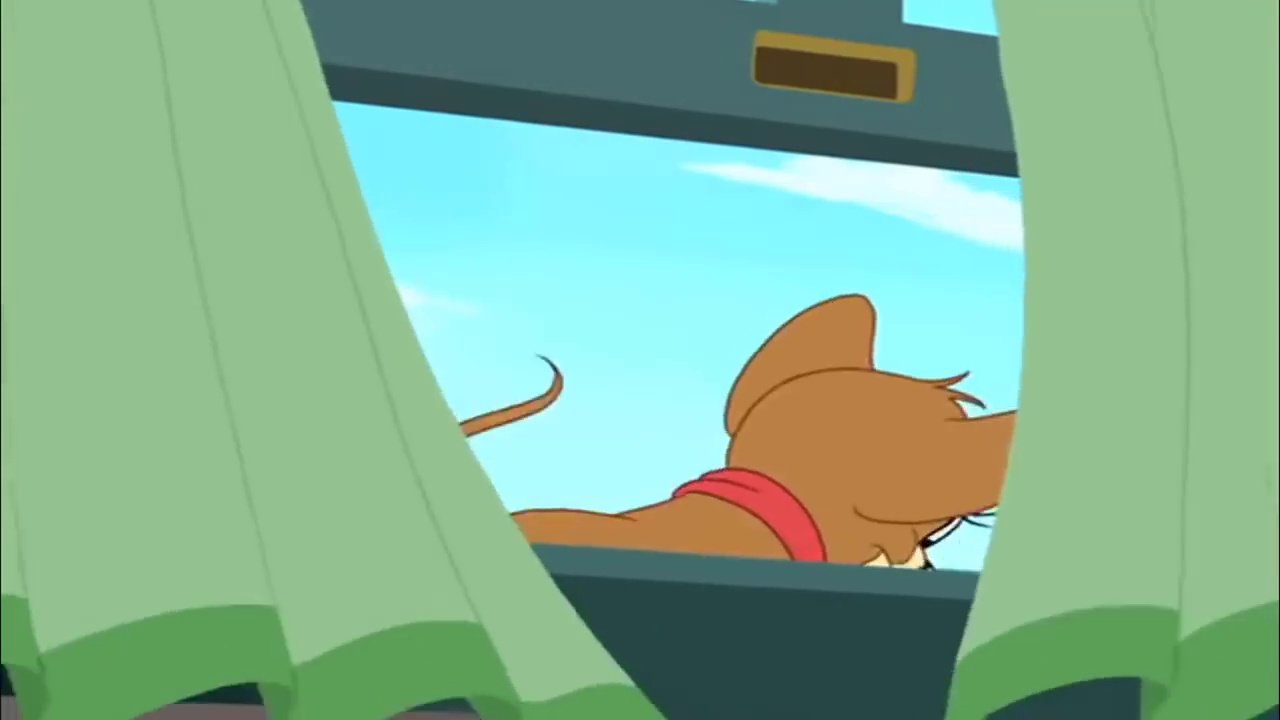face: (839, 430, 1005, 574)
